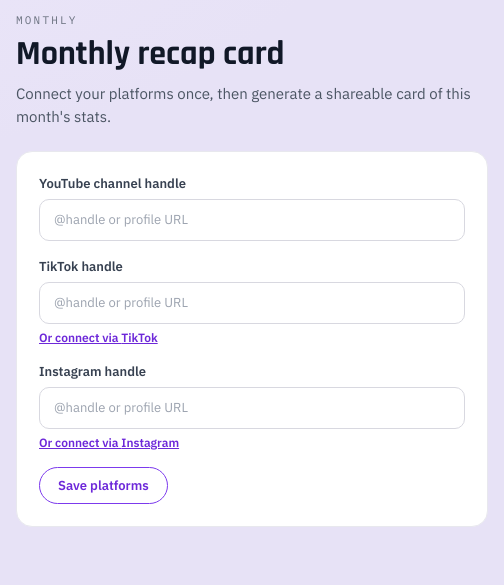
Test: RecapPage › shows an error when saving handles fails to reach the server
Type "creator" into the field labelled "YouTube channel handle". click: (252, 220)
box: [39,199,465,241]
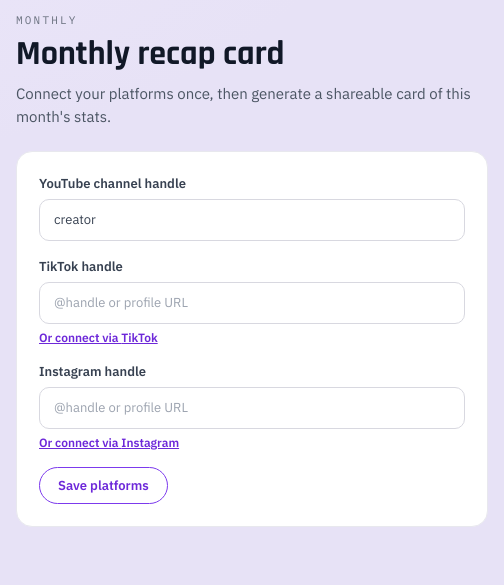
Click the button "Save platforms". click: (103, 485)
box: [39,467,168,504]
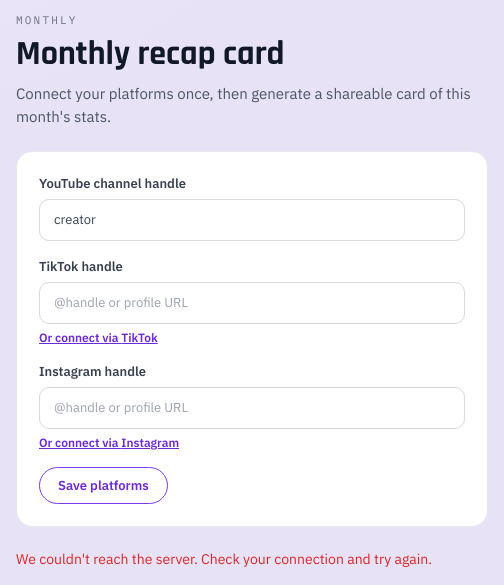
Expected: the message shows "couldn't reach the server", [16,550,432,568]
